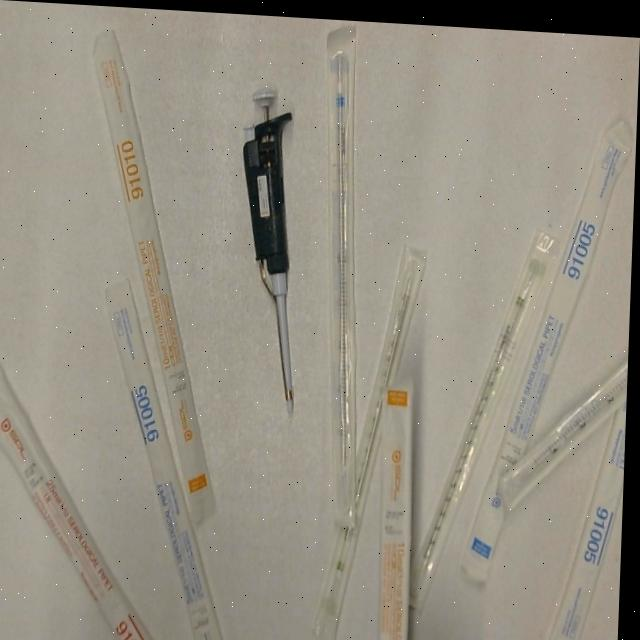Serelogical Pipet 10 mL - Sealed: (77, 25, 238, 530), (376, 372, 423, 640)
Serelogical Pipet 2 mL - Sealed: (411, 214, 565, 615), (313, 230, 430, 640)
Serelogical Pipet 25 mL - Sealed: (0, 343, 177, 640)
Serelogical Pipet 5 mL - Sealed: (464, 104, 635, 587), (94, 269, 241, 640), (312, 17, 377, 526), (506, 333, 631, 514), (551, 369, 630, 640)
Single Channel Pipettor: (234, 72, 314, 427)
